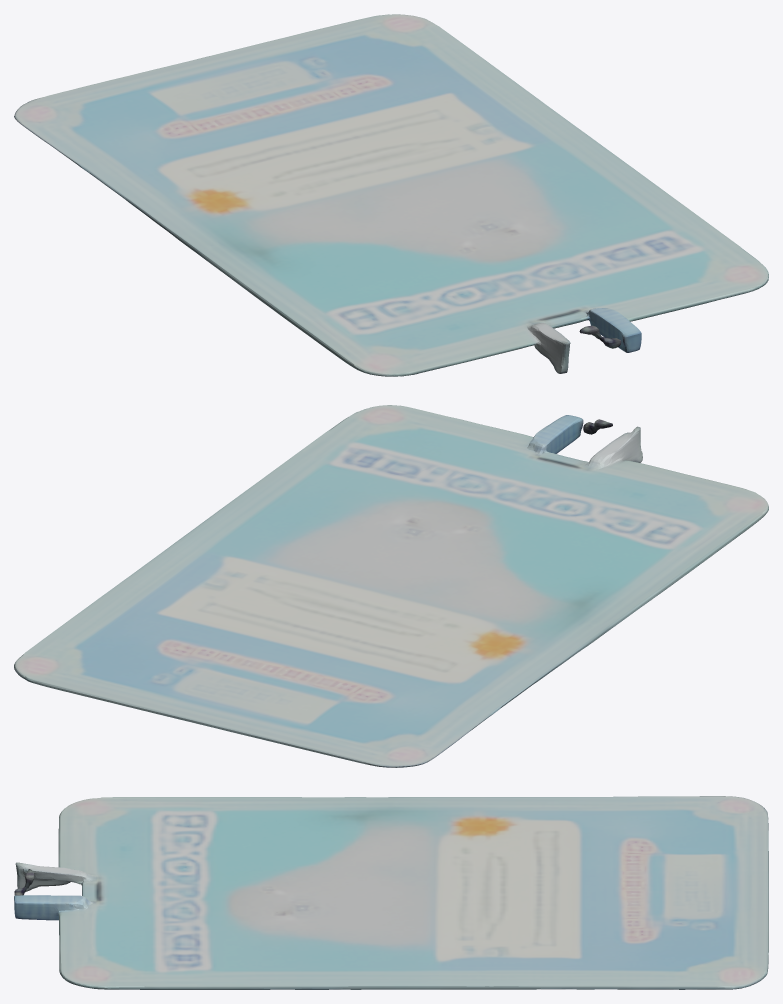
File: resources-badge-on-lanyard.glb
The picture shows the model from 3 angles, top to bottom: view 1: azimuth 30°, elevation 25°; view 2: azimuth 150°, elevation 25°; view 3: azimuth 270°, elevation 25°; orthographic projection. The views are drawn at different scales.
Visible parts, largest first — view 1: geometry_0; view 2: geometry_0; view 3: geometry_0.
Part boxes in pixels (left/top/right/bottom): geometry_0: left=14, top=14, right=768, bottom=376; geometry_0: left=14, top=405, right=768, bottom=767; geometry_0: left=14, top=796, right=768, bottom=989.
Size of the model in its own units: 0.5997 by 0.0487 by 1.
